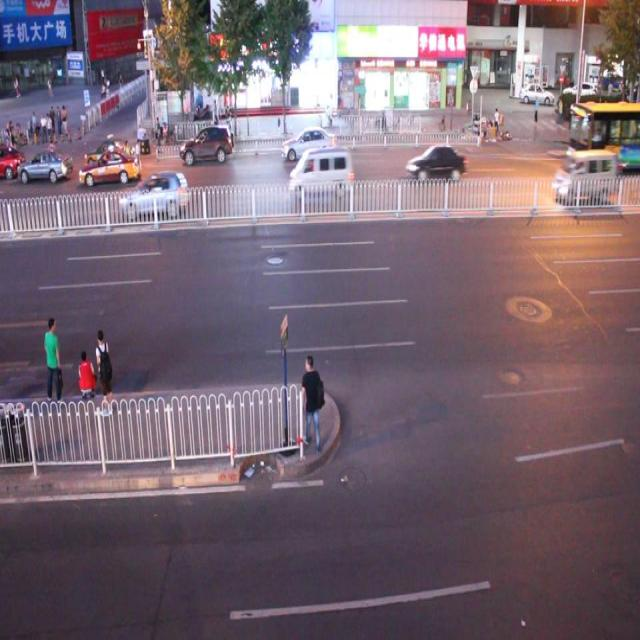car: (121, 170, 186, 214), (404, 143, 467, 181), (180, 123, 233, 163), (566, 150, 613, 194), (80, 152, 140, 185), (281, 124, 334, 159), (18, 149, 72, 183), (94, 137, 138, 162), (1, 144, 22, 178)
truck: (551, 150, 615, 200), (288, 148, 351, 198)
van: (566, 95, 640, 172)
